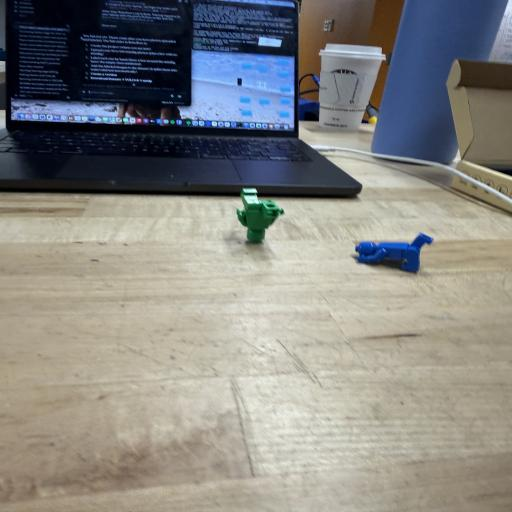blue-minifig: (355, 233, 433, 272)
green-minifig: (237, 188, 284, 242)
